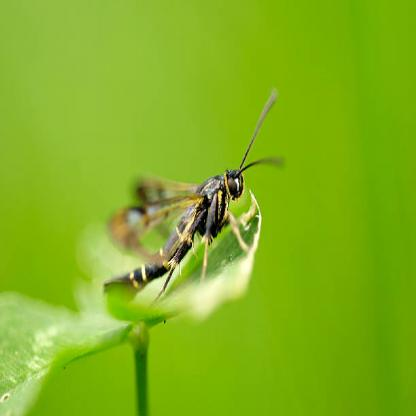sawfly: (99, 93, 288, 311)
